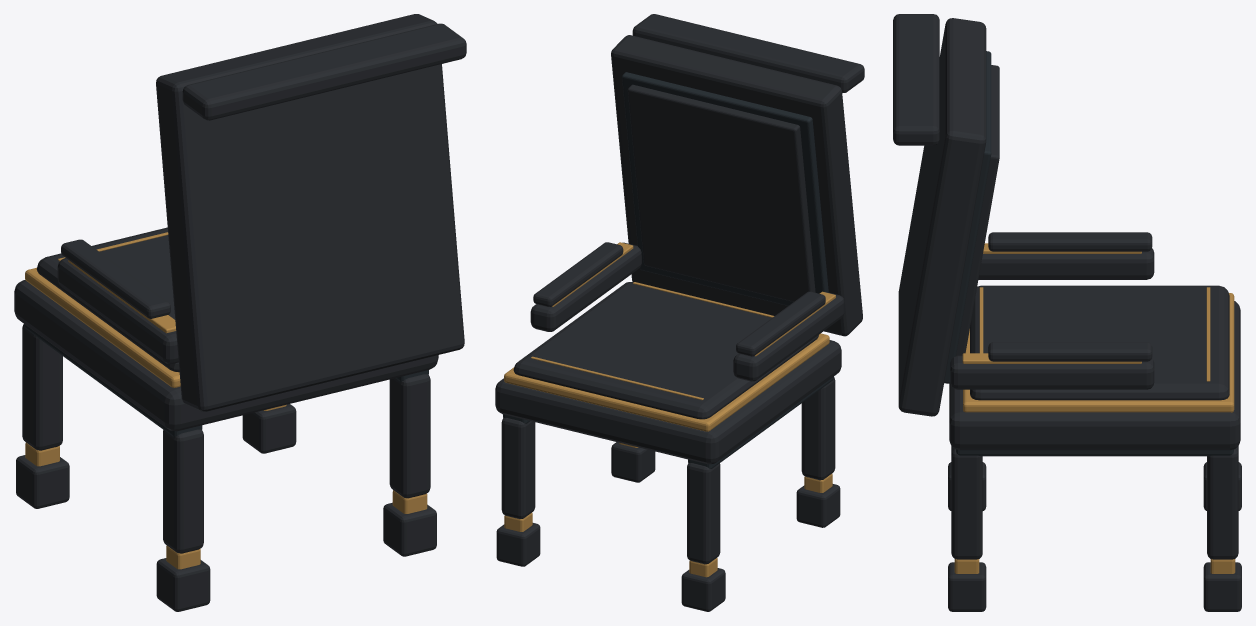
Rendered from SM_Aurelion_KIT_Z11ObservationChair.fbx.
The picture shows the model from 3 angles, left to right: view 1: azimuth 30°, elevation 25°; view 2: azimuth 150°, elevation 25°; view 3: azimuth 270°, elevation 25°; orthographic projection. The views are drawn at different scales.
Parts seen in each view (by area): view 1: SM_Aurelion_KIT_Z11ObservationChair; view 2: SM_Aurelion_KIT_Z11ObservationChair; view 3: SM_Aurelion_KIT_Z11ObservationChair.
Part boxes in pixels (<box>): SM_Aurelion_KIT_Z11ObservationChair: <box>14,14,466,611</box>; SM_Aurelion_KIT_Z11ObservationChair: <box>495,14,864,611</box>; SM_Aurelion_KIT_Z11ObservationChair: <box>893,14,1241,611</box>.
Bounding box in the file's own units: 65 × 77.75 × 119.
